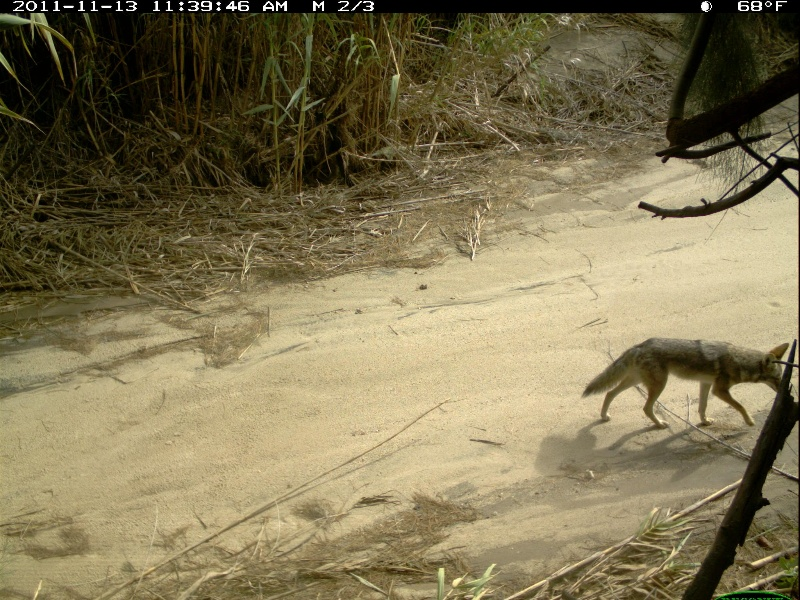coyote: (582, 335, 797, 436)
